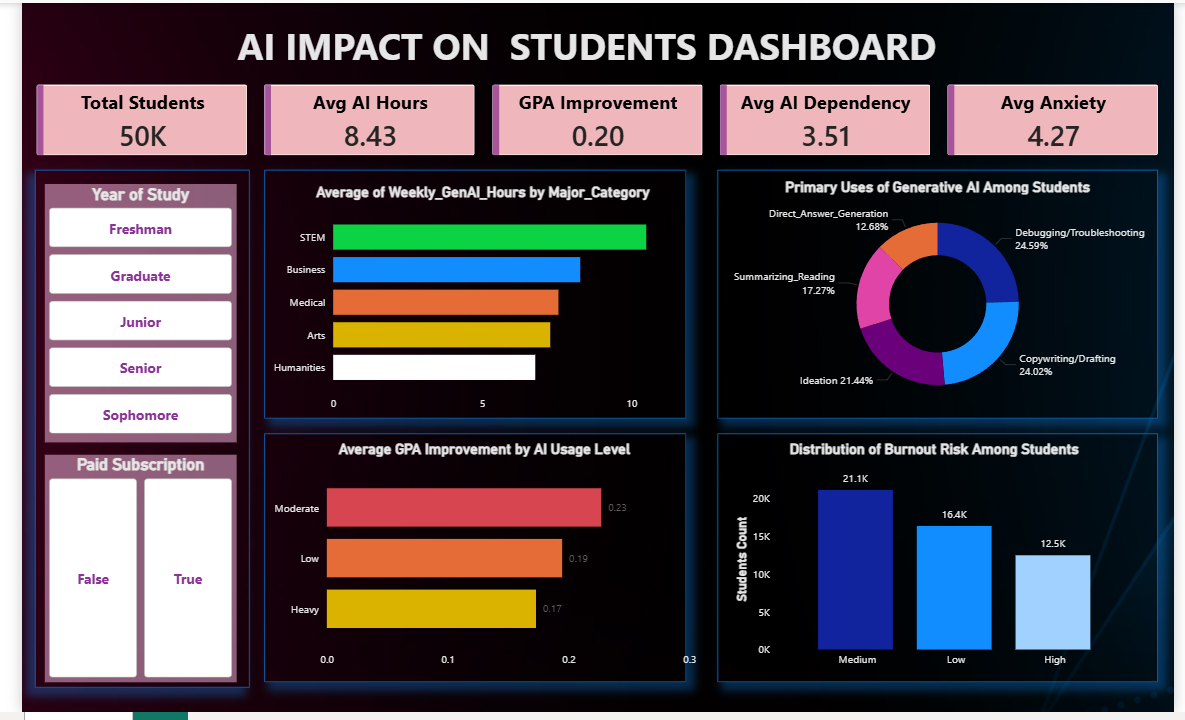

Layout of this report page (visuals, bound fields, positions):
{"tool":"powerbi","page":{"name":"Page 1","canvas":[1336,822],"ordinal":0},"visuals":[{"type":"cardVisual","fields":{"Data":["ai_student_impact_dataset (1).Total Students","ai_student_impact_dataset (1).Avg AI Hours","ai_student_impact_dataset (1).GPA Improvement","ai_student_impact_dataset (1).Avg AI Dependency","ai_student_impact_dataset (1).Avg Anxiety"]},"box":[0,77.1,1335.6,116.5],"z":0},{"type":"textbox","box":[14.3,14.3,1280,75.3],"z":1000},{"type":"clusteredBarChart","fields":{"Category":["ai_student_impact_dataset (1).Major_Category"],"Y":["Avg(ai_student_impact_dataset (1).Weekly_GenAI_Hours)"]},"box":[281.5,209.7,507.3,272.5],"z":2000},{"type":"shape","box":[281.5,193.6,489.4,288.6],"z":3000},{"type":"shape","box":[806.7,193.6,510.9,288.6],"z":4000},{"type":"donutChart","title":"Primary Uses of Generative AI Among Students","fields":{"Category":["ai_student_impact_dataset (1).Primary_Use_Case"],"Y":["CountNonNull(ai_student_impact_dataset (1).Student_ID)"]},"box":[806.7,202.6,510.9,272.5],"z":5000},{"type":"shape","box":[281.5,498.4,489.4,288.6],"z":6000},{"type":"shape","box":[806.7,498.4,510.9,288.6],"z":7000},{"type":"clusteredBarChart","title":"Average GPA Improvement by AI Usage Level","fields":{"Category":["ai_student_impact_dataset (1).AI Usage Category"],"Y":["ai_student_impact_dataset (1).Avg GPA Improvement"]},"box":[283.2,507.3,507.3,272.5],"z":8000},{"type":"clusteredColumnChart","title":"Distribution of Burnout Risk Among Students","fields":{"Category":["ai_student_impact_dataset (1).Burnout_Risk_Level"],"Y":["CountNonNull(ai_student_impact_dataset (1).Student_ID)"]},"box":[821.1,507.3,473.3,272.5],"z":9000},{"type":"shape","box":[14.3,193.6,249.2,600.6],"z":10000},{"type":"advancedSlicerVisual","title":"Year of Study","fields":{"Values":["ai_student_impact_dataset (1).Year_of_Study"]},"box":[26.9,209.7,222.3,299.4],"z":11000},{"type":"advancedSlicerVisual","title":"Paid Subscription","fields":{"Values":["ai_student_impact_dataset (1).Paid_Subscription"]},"box":[26.9,523.5,222.3,263.5],"z":11001}]}

Visuals, with their boxes in screenshot pixels (x1, y1, x2, y2), scaled from the page's 1336x822 canvas onto the 1185x720 screenshot:
cardVisual - ai_student_impact_dataset (1).Total Students x ai_student_impact_dataset (1).Avg AI Hours: l=0, t=68, r=1184, b=170
textbox: l=13, t=13, r=1148, b=78
clusteredBarChart - ai_student_impact_dataset (1).Major_Category x Avg(ai_student_impact_dataset (1).Weekly_GenAI_Hours): l=250, t=184, r=700, b=422
shape: l=250, t=170, r=684, b=422
shape: l=716, t=170, r=1169, b=422
"Primary Uses of Generative AI Among Students" donutChart: l=716, t=177, r=1169, b=416
shape: l=250, t=437, r=684, b=689
shape: l=716, t=437, r=1169, b=689
"Average GPA Improvement by AI Usage Level" clusteredBarChart: l=251, t=444, r=701, b=683
"Distribution of Burnout Risk Among Students" clusteredColumnChart: l=728, t=444, r=1148, b=683
shape: l=13, t=170, r=234, b=696
"Year of Study" advancedSlicerVisual: l=24, t=184, r=221, b=446
"Paid Subscription" advancedSlicerVisual: l=24, t=459, r=221, b=689
